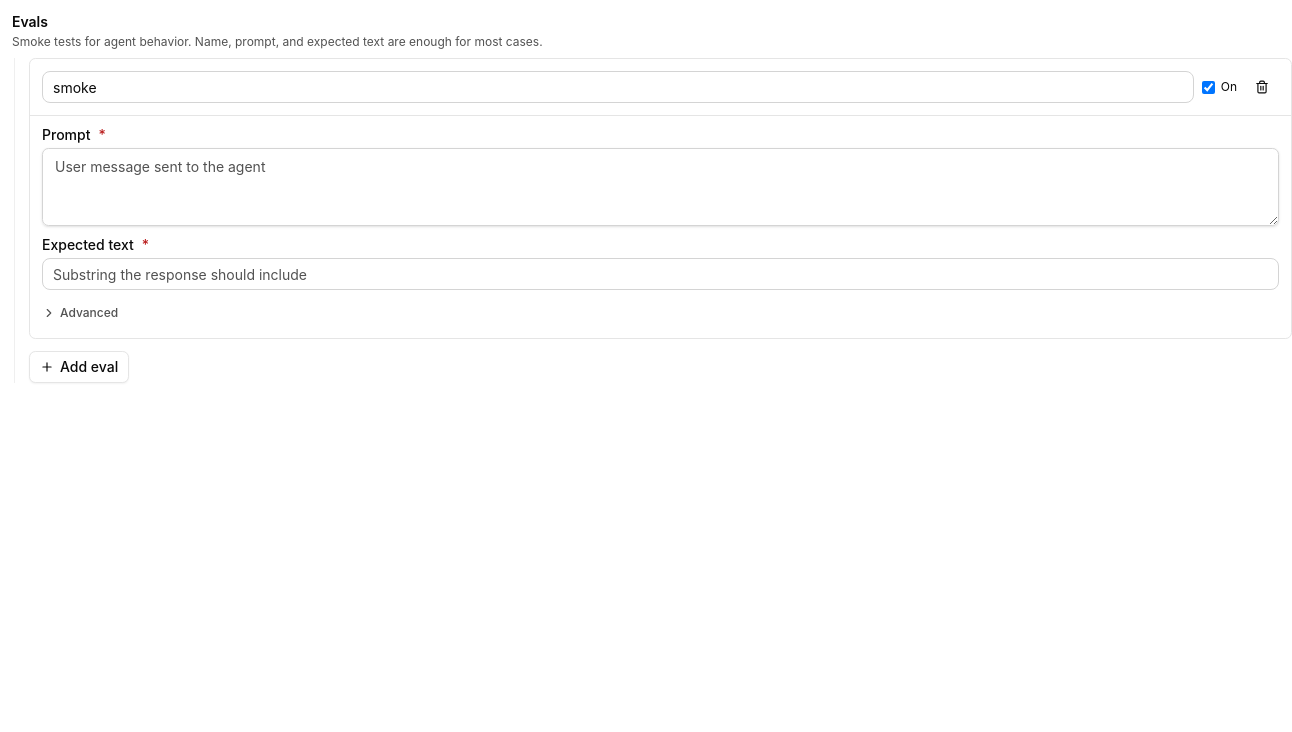
Scenario: EvalsSection › reveals grader options in Advanced
Click the button "Advanced" at (80, 313), box [42, 305, 118, 321]
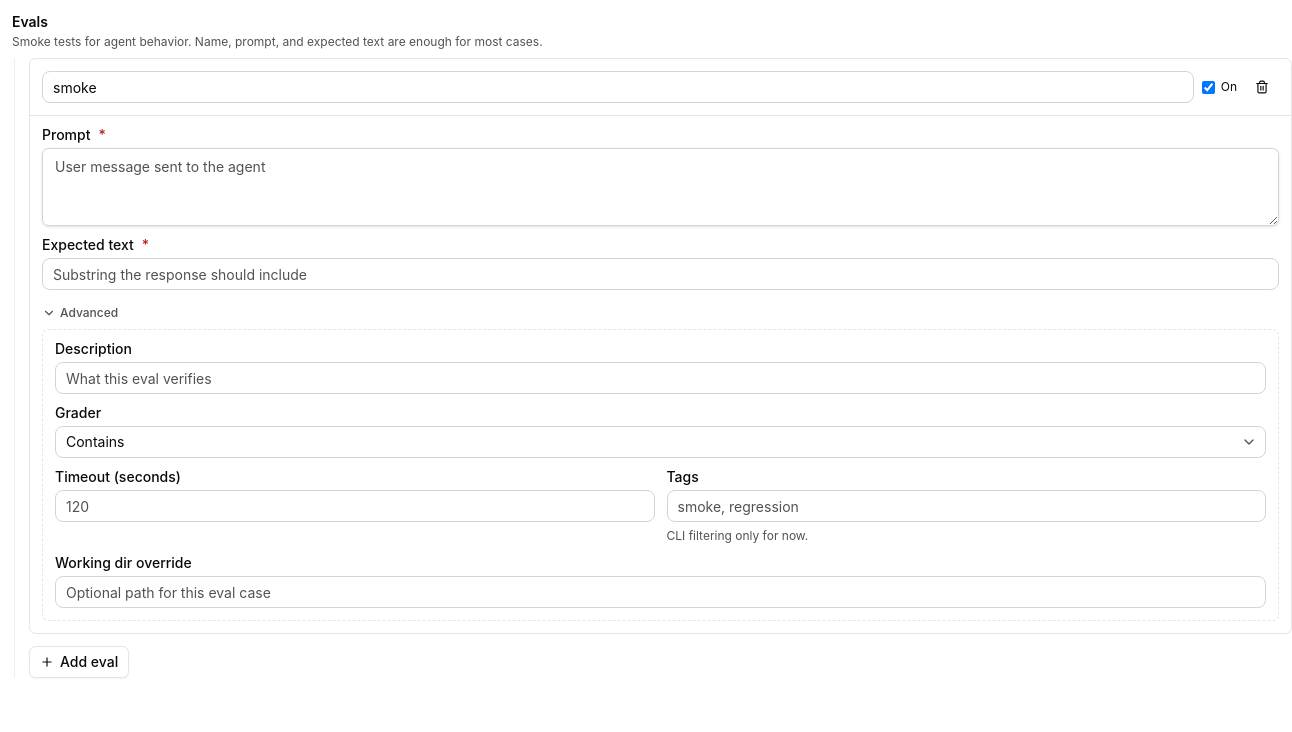
Check: the text "Grader" is shown, box [55, 404, 101, 421]
